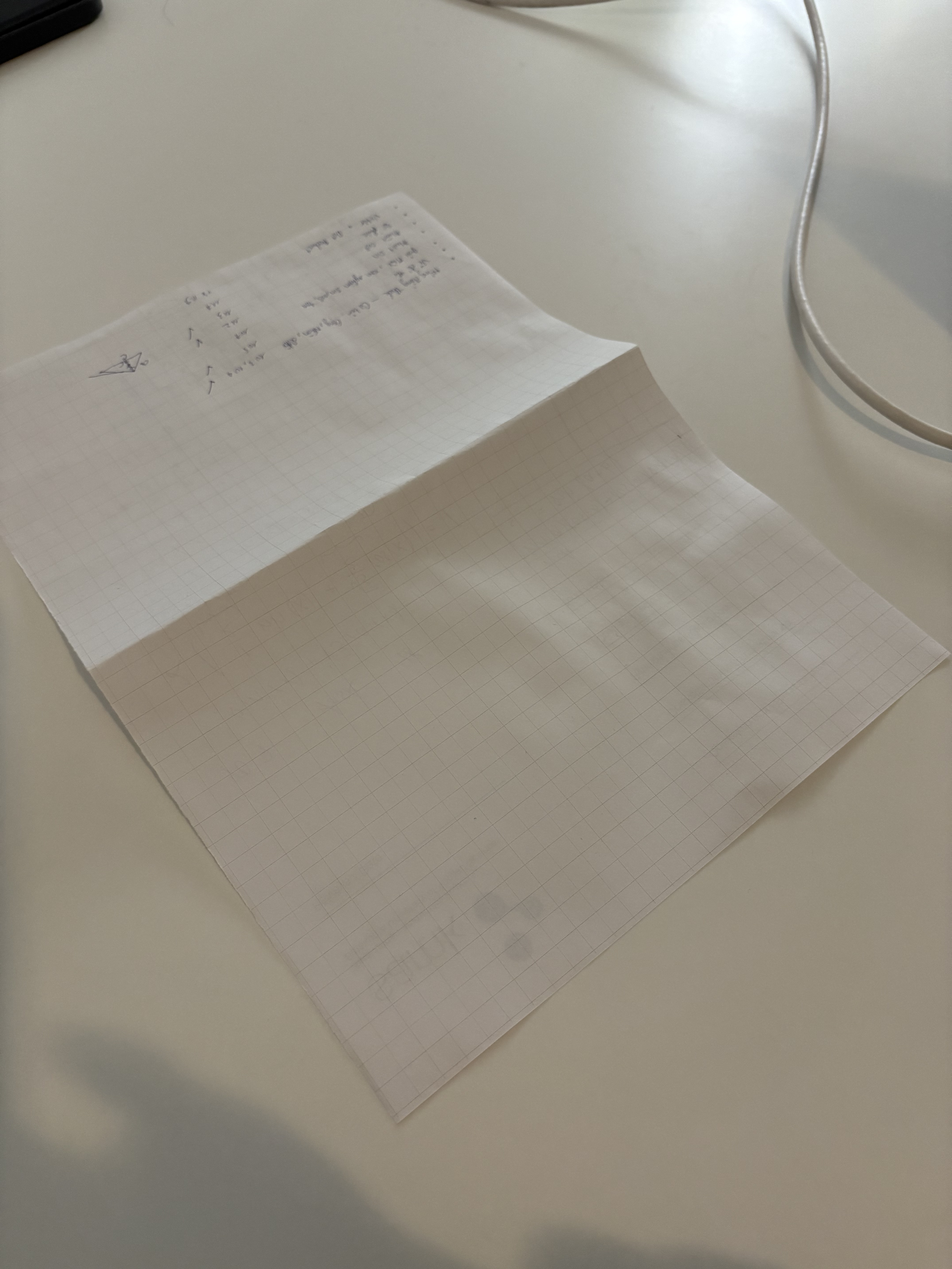paper: (0, 189, 952, 1126)
